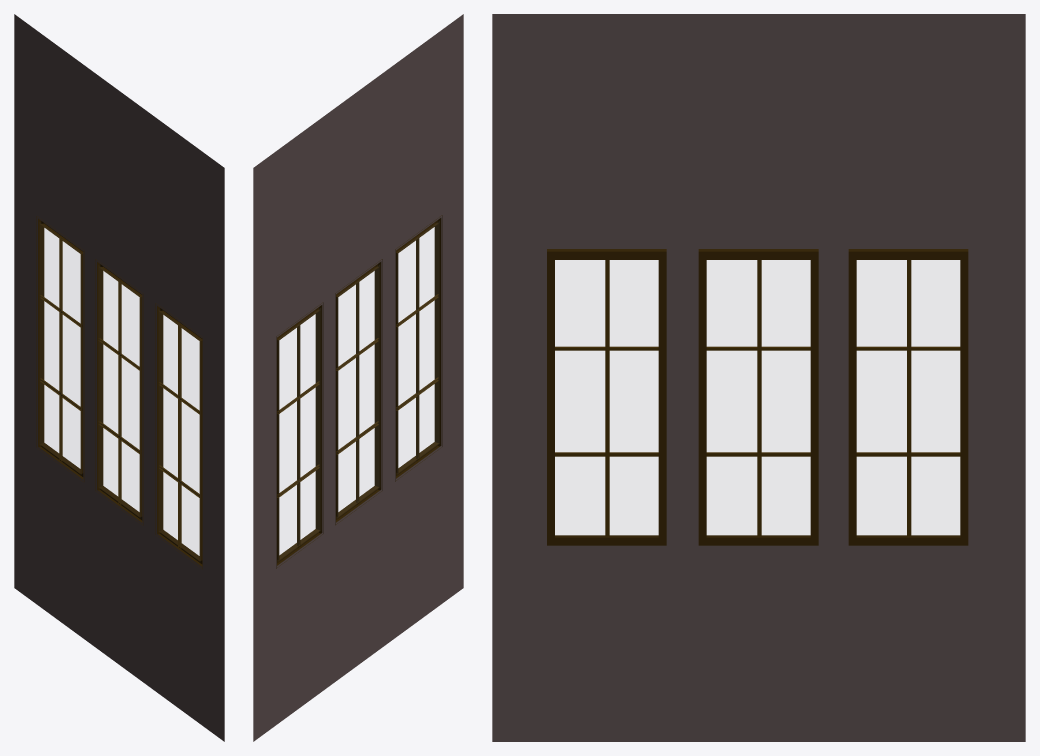
The model's file is Pared_Ventanal_03.fbx.
3 renders of one model, left to right at view 1: azimuth 30°, elevation 25°; view 2: azimuth 150°, elevation 25°; view 3: azimuth 270°, elevation 25°, orthographic. The views are drawn at different scales.
Parts seen in each view (by area): view 1: polySurface29, Marco_02_Edif_02, Marco_02_Edif_04, Marco_02_Edif_03, Barrote_Vent_02_Edif_02, Barrote_Vent_02_Edif_05, Barrote_Vent_02_Edif_04; view 2: polySurface29, Marco_02_Edif_02, Marco_02_Edif_03, Marco_02_Edif_04, Barrote_Vent_02_Edif_04, Barrote_Vent_02_Edif_05, Barrote_Vent_02_Edif_02; view 3: polySurface29, Marco_02_Edif_02, Marco_02_Edif_04, Marco_02_Edif_03, Barrote_Vent_02_Edif_02, Barrote_Vent_02_Edif_05, Barrote_Vent_02_Edif_04.
Part boxes in pixels (<box>): polySurface29: <box>14,14,224,741</box>; Marco_02_Edif_02: <box>95,259,143,525</box>; Marco_02_Edif_04: <box>36,216,84,481</box>; Marco_02_Edif_03: <box>155,303,202,569</box>; Barrote_Vent_02_Edif_02: <box>98,281,139,504</box>; Barrote_Vent_02_Edif_05: <box>40,238,82,461</box>; Barrote_Vent_02_Edif_04: <box>159,325,199,548</box>; polySurface29: <box>253,14,463,741</box>; Marco_02_Edif_02: <box>335,259,382,525</box>; Marco_02_Edif_03: <box>395,215,442,481</box>; Marco_02_Edif_04: <box>276,302,323,568</box>; Barrote_Vent_02_Edif_04: <box>396,237,438,460</box>; Barrote_Vent_02_Edif_05: <box>277,324,319,547</box>; Barrote_Vent_02_Edif_02: <box>336,281,378,504</box>; polySurface29: <box>492,14,1025,741</box>; Marco_02_Edif_02: <box>698,249,818,545</box>; Marco_02_Edif_04: <box>848,249,968,545</box>; Marco_02_Edif_03: <box>547,249,666,545</box>; Barrote_Vent_02_Edif_02: <box>706,260,810,536</box>; Barrote_Vent_02_Edif_05: <box>856,260,960,536</box>; Barrote_Vent_02_Edif_04: <box>555,260,658,536</box>.
Size of the model in its own units: 0.152 by 18 by 11.95.
